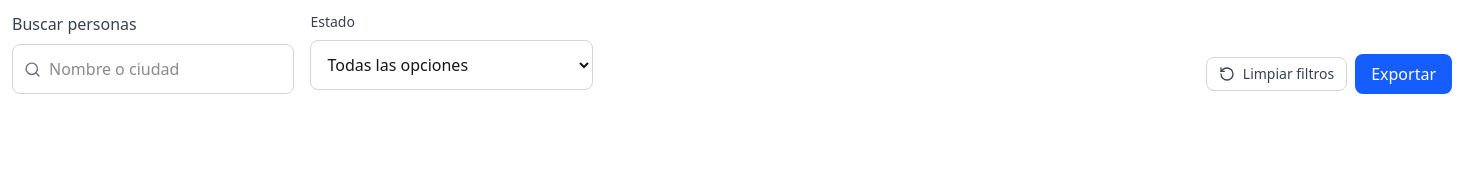
Test case: DataTableToolbar › presents controlled search, select filters, reset and actions
Step 1. Type "Ana" into the search field labelled "Buscar personas" → (153, 69), box [12,44,294,94]
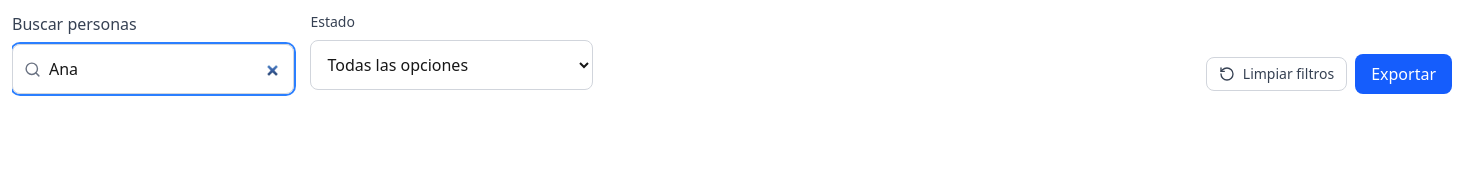
Step 2. Select "Activo" in the dropdown labelled "Estado" → (452, 65), box [310,40,593,90]
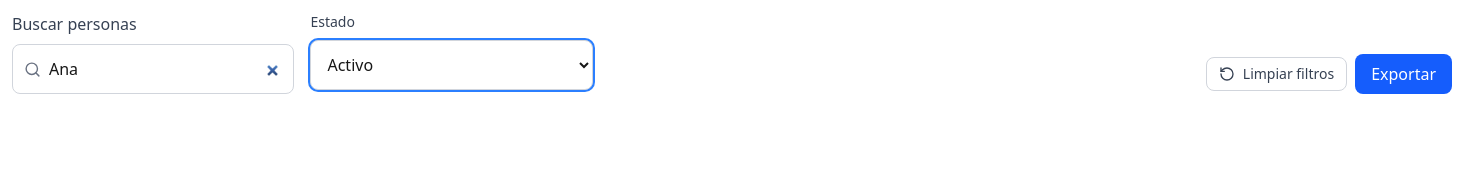
Step 3. Click the button "Exportar" → (1404, 74), box [1355,54,1452,94]
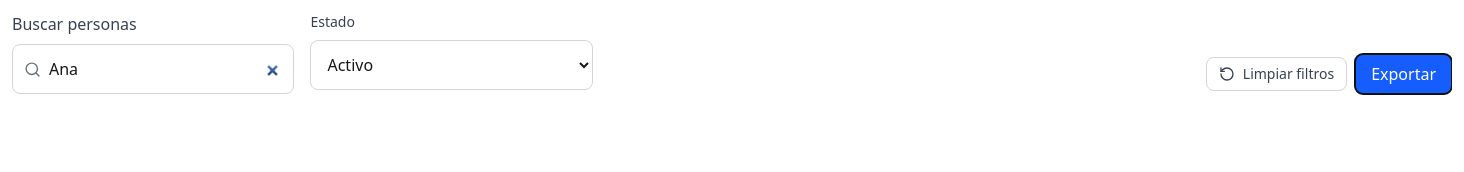
Step 4. Click the button "Limpiar filtros" → (1276, 74), box [1206,57,1347,91]
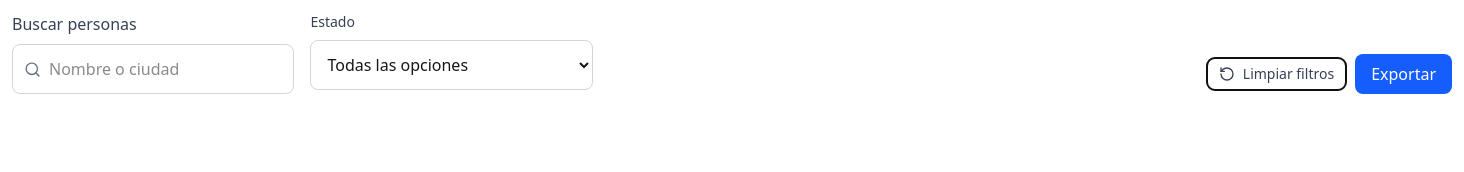
Expected: the search field labelled "Buscar personas" is empty, [12,44,294,94]
